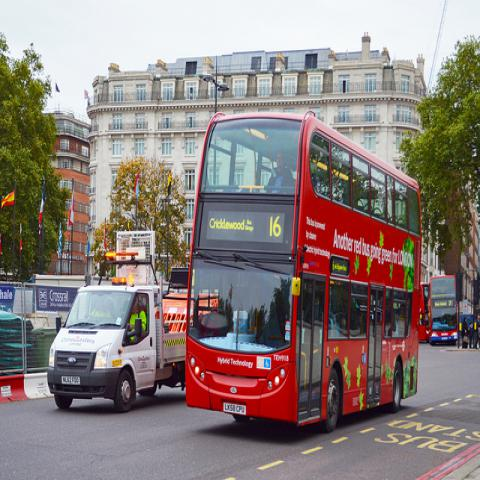bus: (186, 110, 422, 438), (429, 275, 461, 344), (420, 283, 430, 341)
truck: (48, 250, 186, 414)
